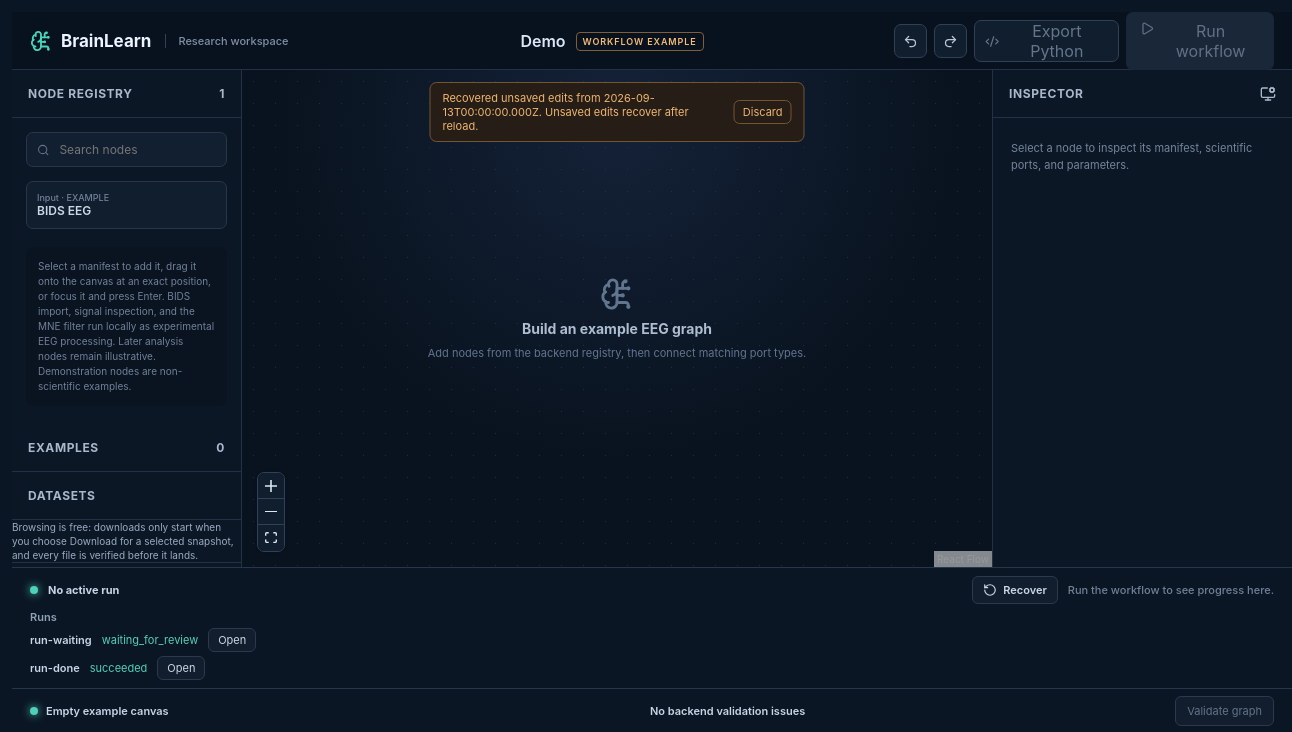
Test: reload exposes history and reopens a pending run
expect the text "run-waiting" is shown: met, box left=30, top=633, right=92, bottom=647
expect the text "run-done" is shown: met, box left=30, top=661, right=80, bottom=675
Click the button with aria-label "Open run run-waiting".
click(232, 640)  # box left=208, top=628, right=256, bottom=652
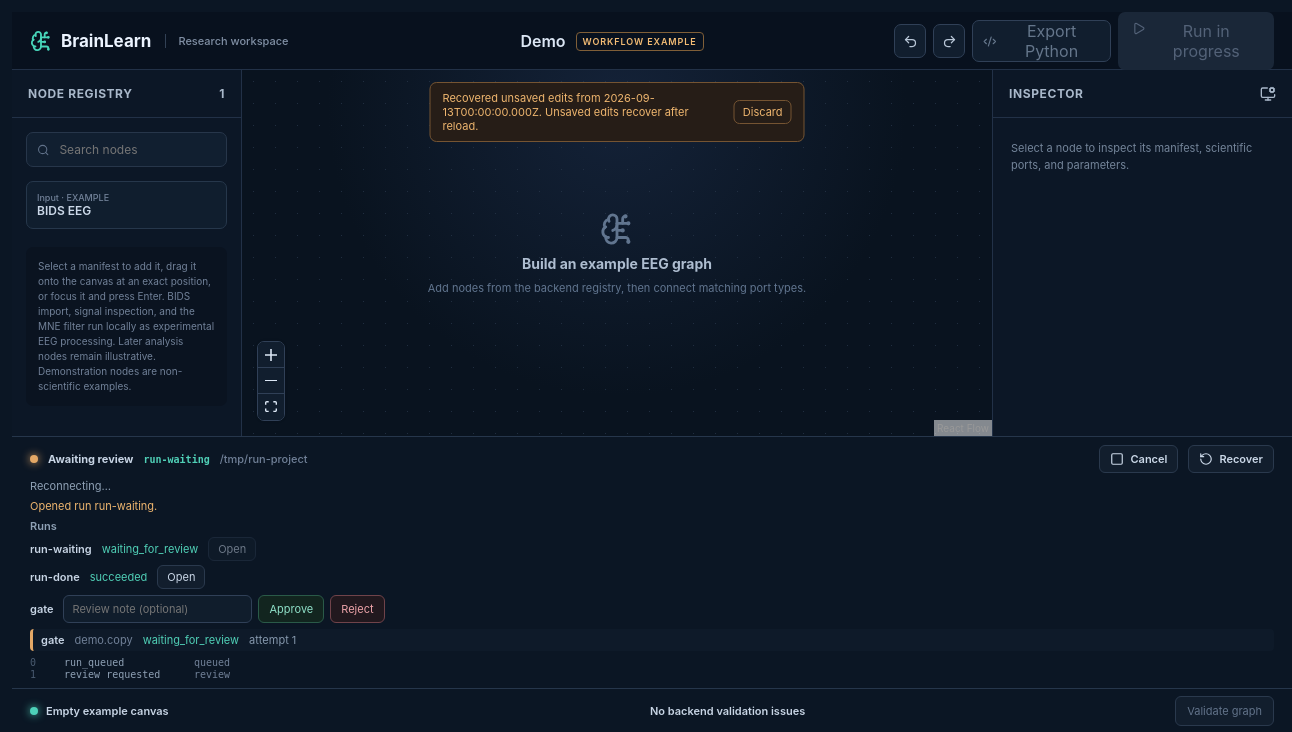
expect the text "Awaiting review" is shown: met, box left=48, top=452, right=134, bottom=466
expect the button "Approve" is shown: met, box left=258, top=595, right=324, bottom=623
